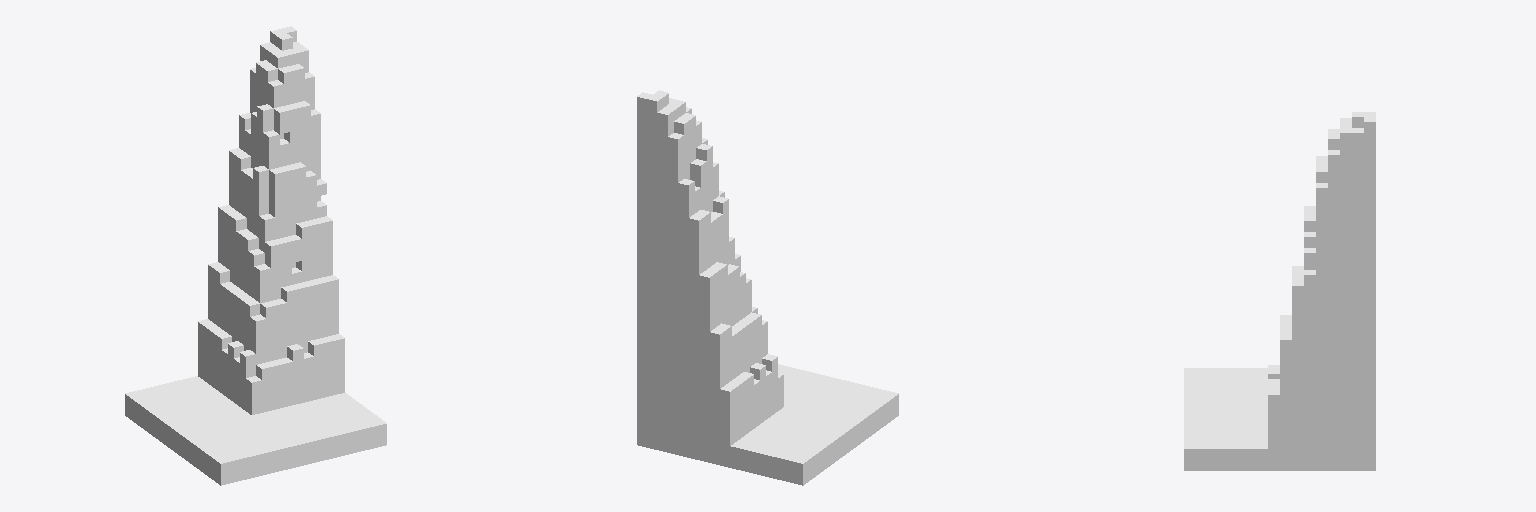
The model's file is Mountain_angle_1.obj.
3 renders of one model, left to right at view 1: azimuth 30°, elevation 25°; view 2: azimuth 150°, elevation 25°; view 3: azimuth 270°, elevation 25°, orthographic.
Visible parts, largest first — view 1: object 1; view 2: object 1; view 3: object 1.
Part boxes in pixels (x1,y1,x2,y2): object 1: (125, 26, 386, 485); object 1: (637, 90, 898, 485); object 1: (1184, 112, 1375, 470).
Size of the model in its own units: 1.6 by 3.2 by 1.6.